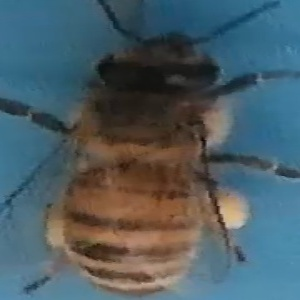bee: (28, 27, 292, 295)
